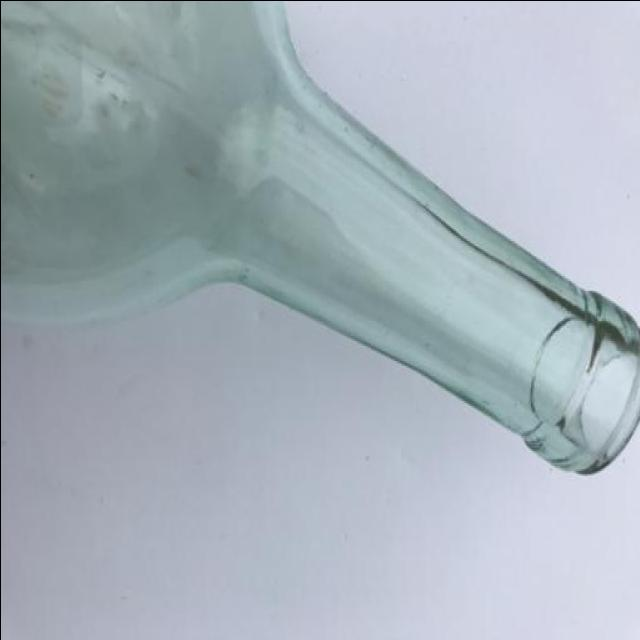glass: (0, 0, 638, 494)
